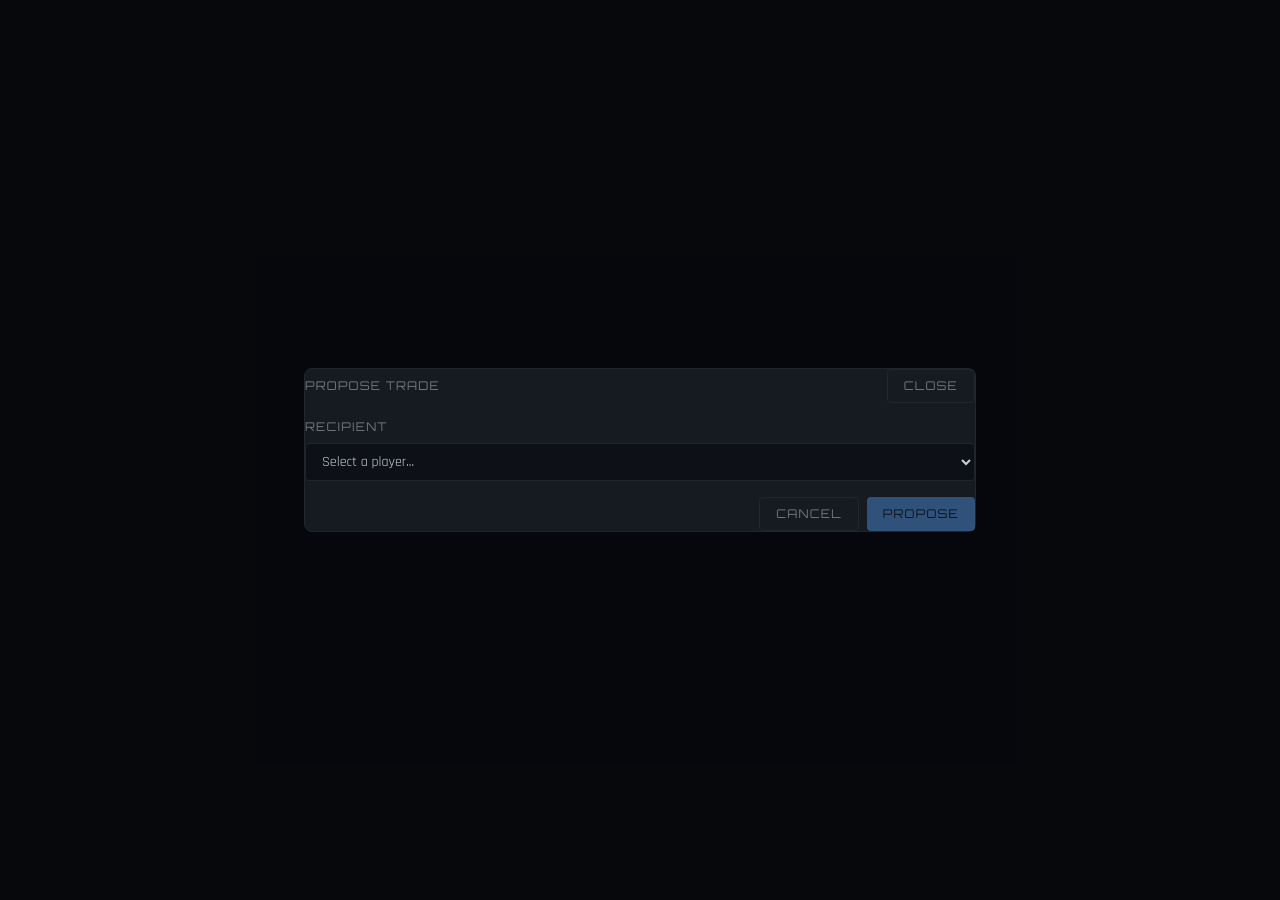
TradeModal › prepopulates with initialNoteId in offer side
Select "Bob" in the dropdown: (640, 462) [305,443,975,481]
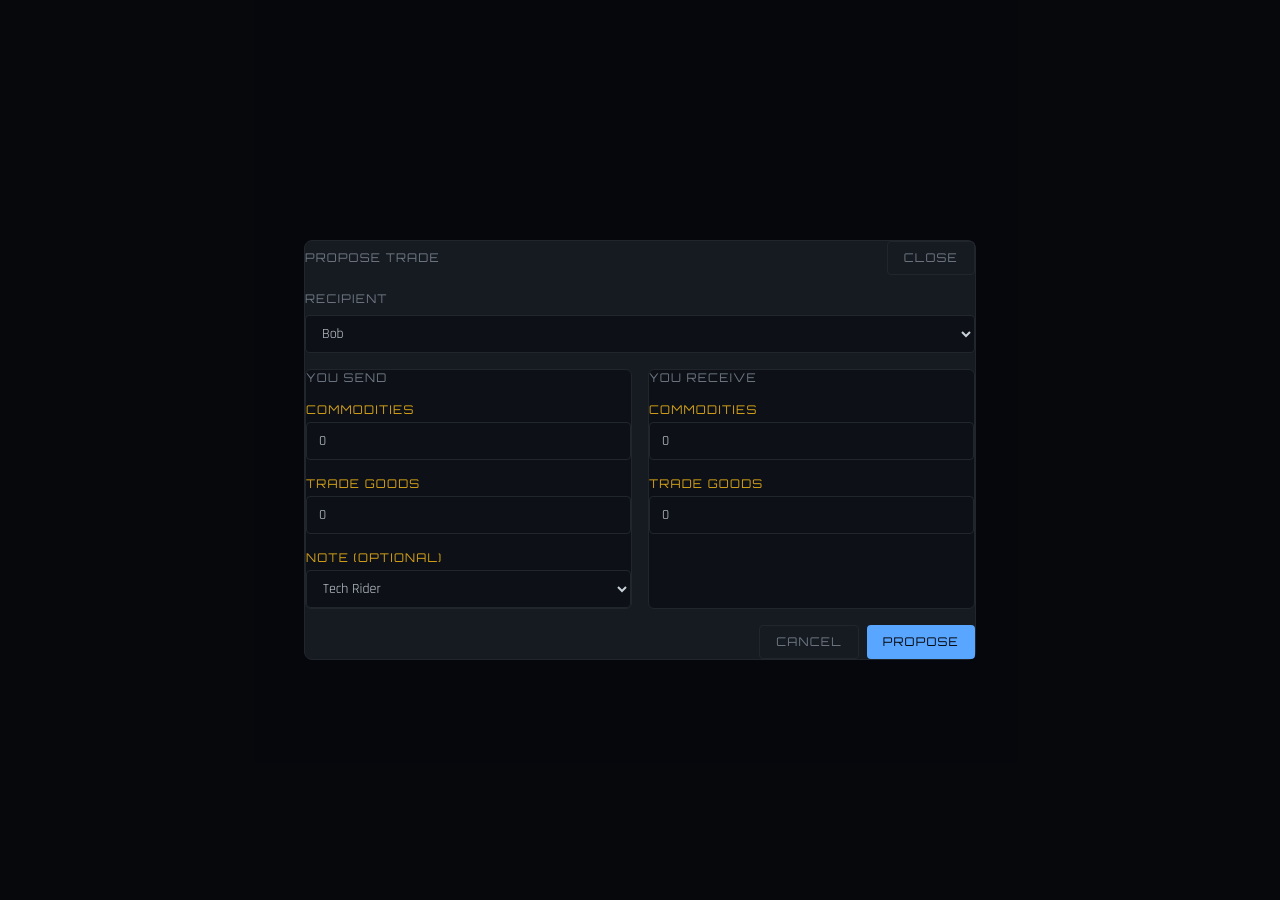
Expected: the dropdown showing "Tech Rider" below "Note (optional)" is shown, [306,570,631,608]
